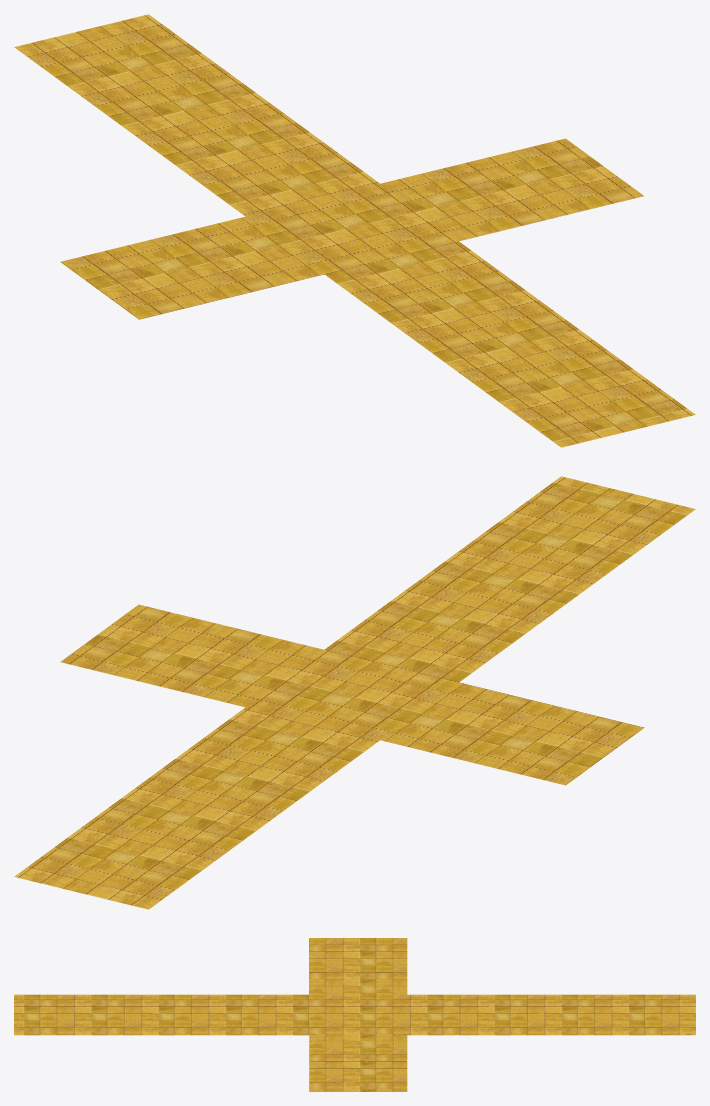
The model's file is pav4.glb.
3 views of the same model, one above another, from view 1: azimuth 30°, elevation 25°; view 2: azimuth 150°, elevation 25°; view 3: azimuth 270°, elevation 25° (orthographic). The views are drawn at different scales.
Parts seen in each view (by area): view 1: Piano.029; view 2: Piano.029; view 3: Piano.029.
Part boxes in pixels (x1,y1,x2,y2): Piano.029: [14, 14, 695, 447]; Piano.029: [14, 476, 695, 909]; Piano.029: [14, 938, 695, 1091].
Size of the model in its own units: 15.07 by 2.38e-07 by 28.26.
Materials: 1 (1 with a texture image).
